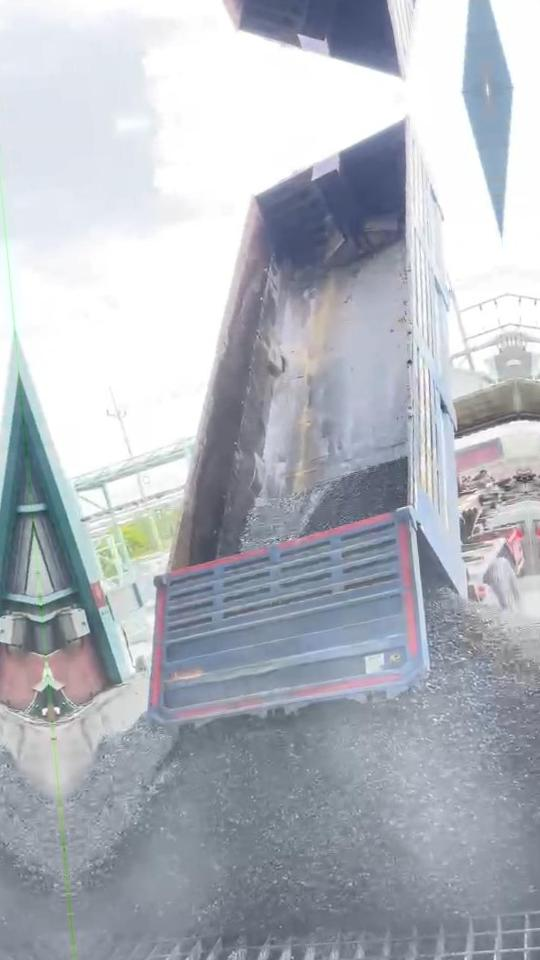gravel: (68, 591, 540, 948), (241, 458, 407, 550)
